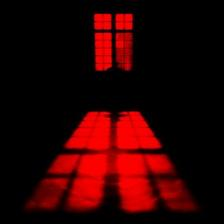red: (24, 112, 199, 214), (95, 32, 113, 71), (116, 33, 133, 71), (94, 14, 112, 30), (116, 14, 133, 30)
